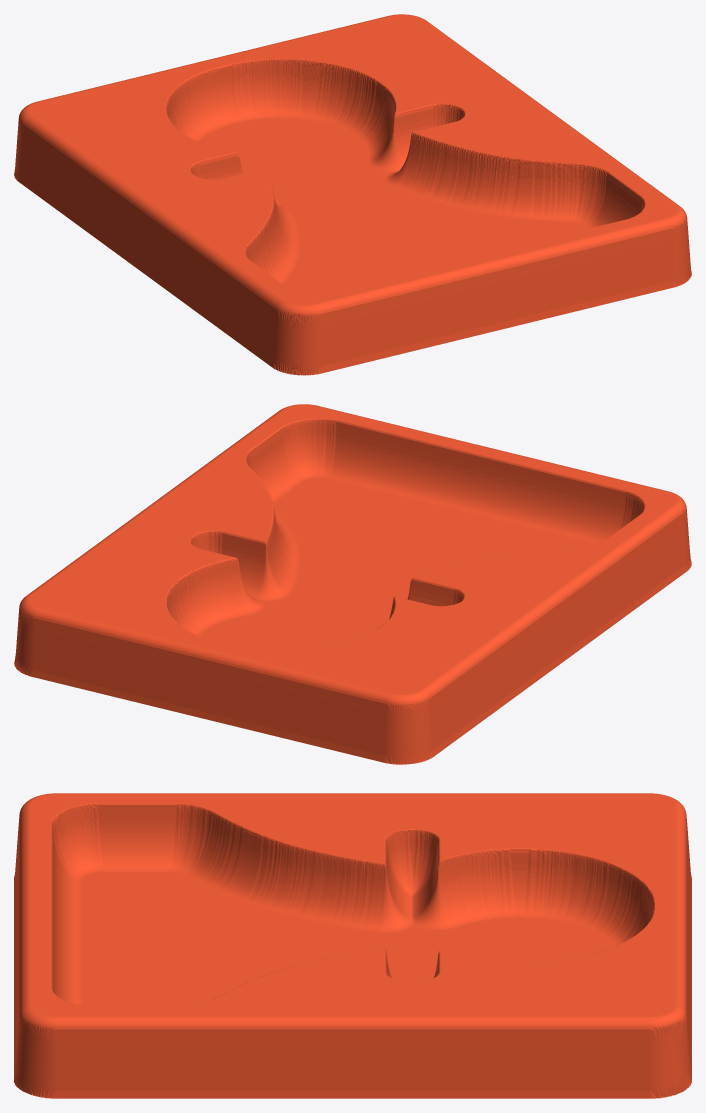
File: mold.glb
3 renders of one model, top to bottom at view 1: azimuth 30°, elevation 25°; view 2: azimuth 150°, elevation 25°; view 3: azimuth 270°, elevation 25°, orthographic. The views are drawn at different scales.
Parts seen in each view (by area): view 1: geometry_0; view 2: geometry_0; view 3: geometry_0.
Part boxes in pixels (x1=…): geometry_0: x1=14, y1=14, x2=691, y2=375; geometry_0: x1=14, y1=404, x2=691, y2=764; geometry_0: x1=14, y1=793, x2=691, y2=1098.
Size of the model in its own units: 0.1184 by 0.0175 by 0.1435.
